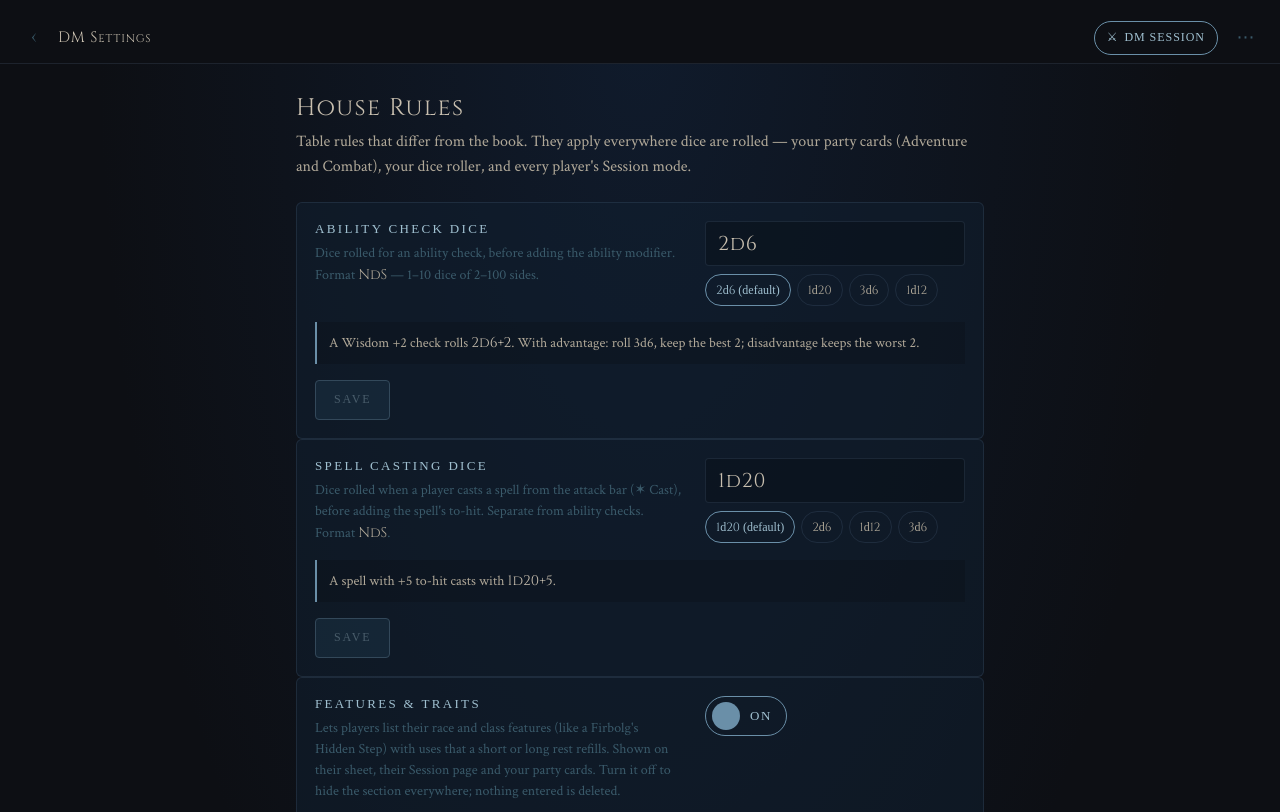
Test case: DmSettingsPage › blocks invalid dice
In the field showing "2d6": (835, 243) [705,221,965,266], type "2d6+1"
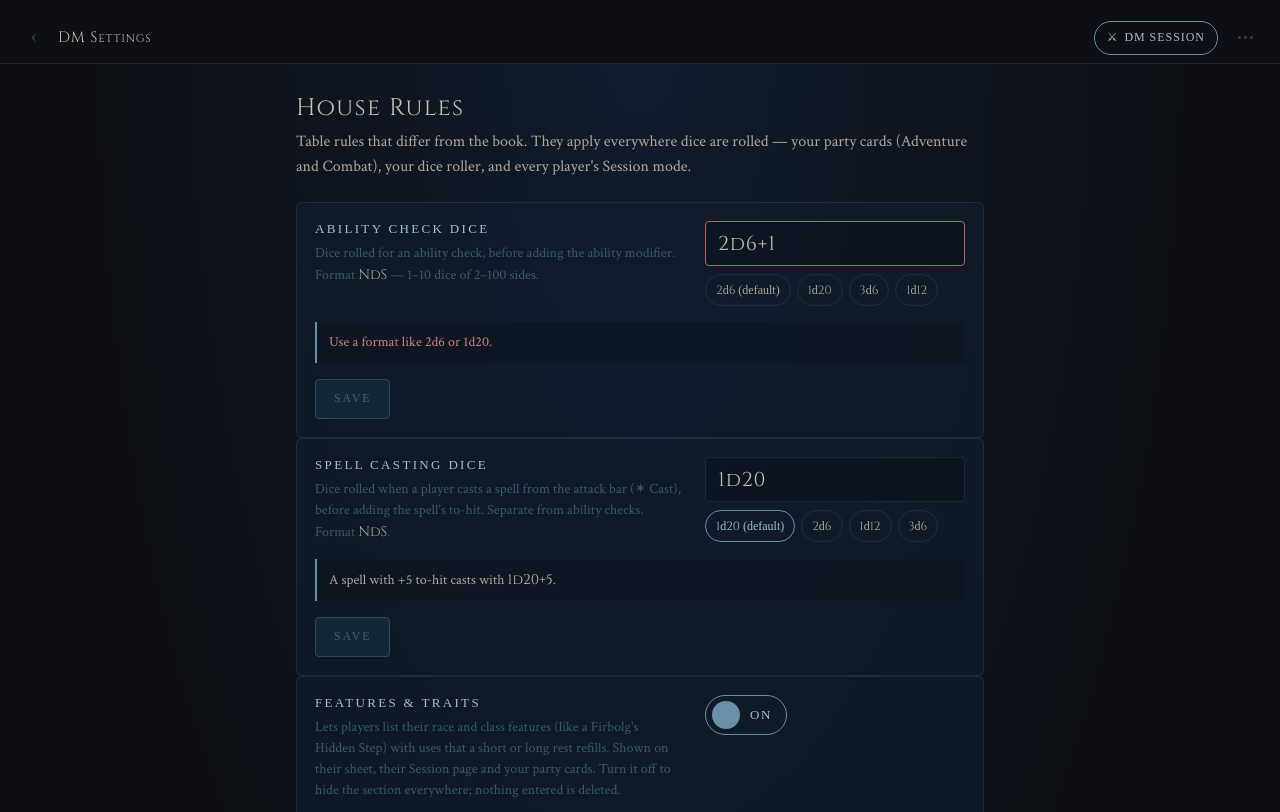
Expected: the button "Save" below "Use a format like 2d6 or 1d20." is disabled, [315,379,390,419]
Expected: the text "Use a format like 2d6 or 1d20." is shown, [329,333,492,351]
